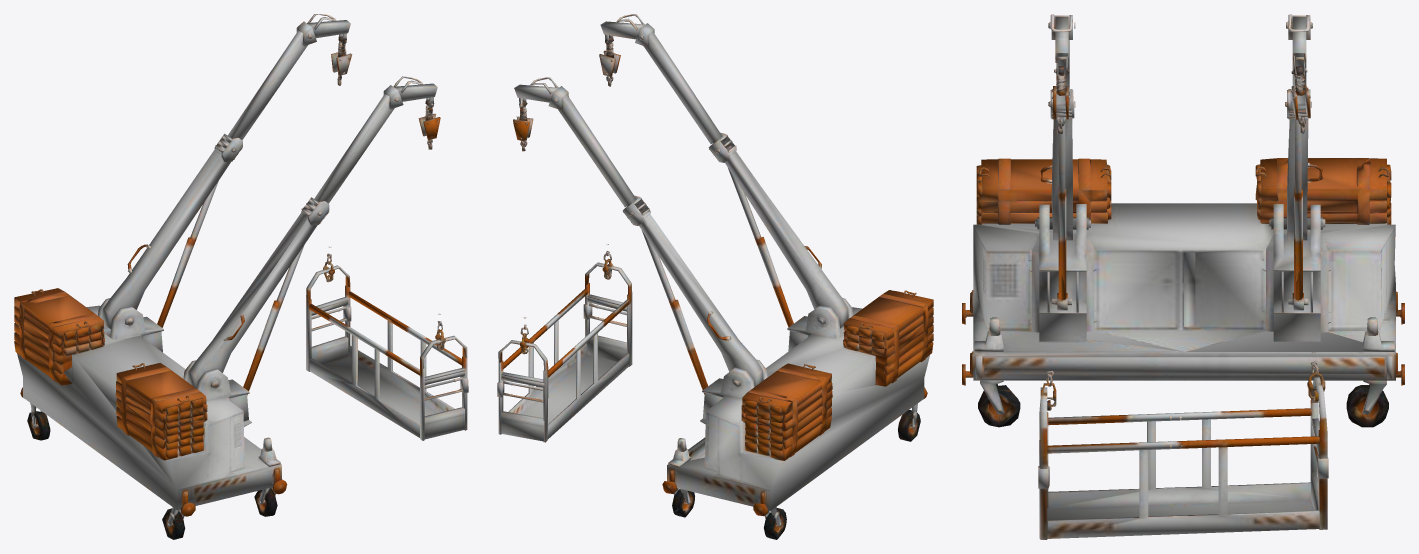
Rendered from gondolaRig.glb.
3 renders of one model, left to right at view 1: azimuth 30°, elevation 25°; view 2: azimuth 150°, elevation 25°; view 3: azimuth 270°, elevation 25°, orthographic. The views are drawn at different scales.
Parts seen in each view (by area): view 1: tripo_node_54aab7f9-cd07-46f9-9851-6cb92a3fbee8; view 2: tripo_node_54aab7f9-cd07-46f9-9851-6cb92a3fbee8; view 3: tripo_node_54aab7f9-cd07-46f9-9851-6cb92a3fbee8.
Part boxes in pixels (bbox=[...]): tripo_node_54aab7f9-cd07-46f9-9851-6cb92a3fbee8: bbox=[14, 14, 468, 539]; tripo_node_54aab7f9-cd07-46f9-9851-6cb92a3fbee8: bbox=[497, 14, 933, 539]; tripo_node_54aab7f9-cd07-46f9-9851-6cb92a3fbee8: bbox=[962, 14, 1404, 539].
Size of the model in its own units: 0.9044 by 0.998 by 0.7716.
Materials: 1 (1 with a texture image).
